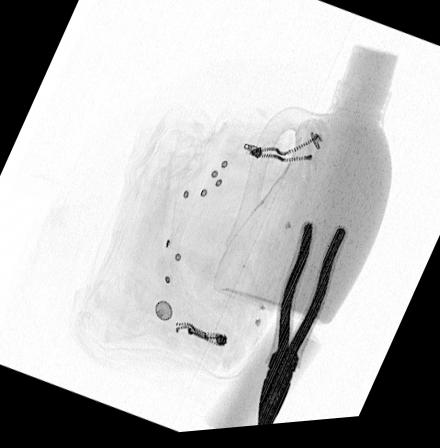Pliers: (257, 224, 350, 430)
